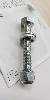FinishedAssembly: (17, 17, 43, 86)
